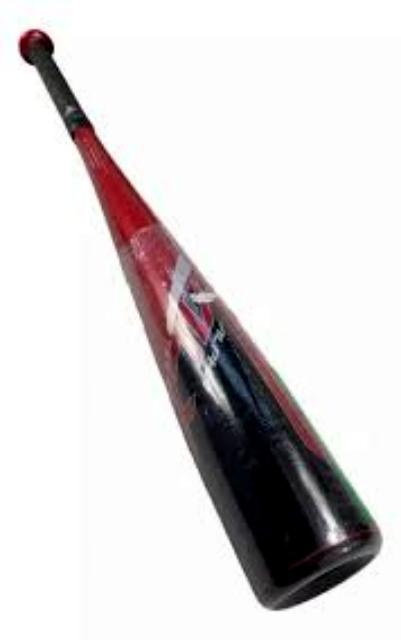baseball bat: (18, 28, 386, 613)
